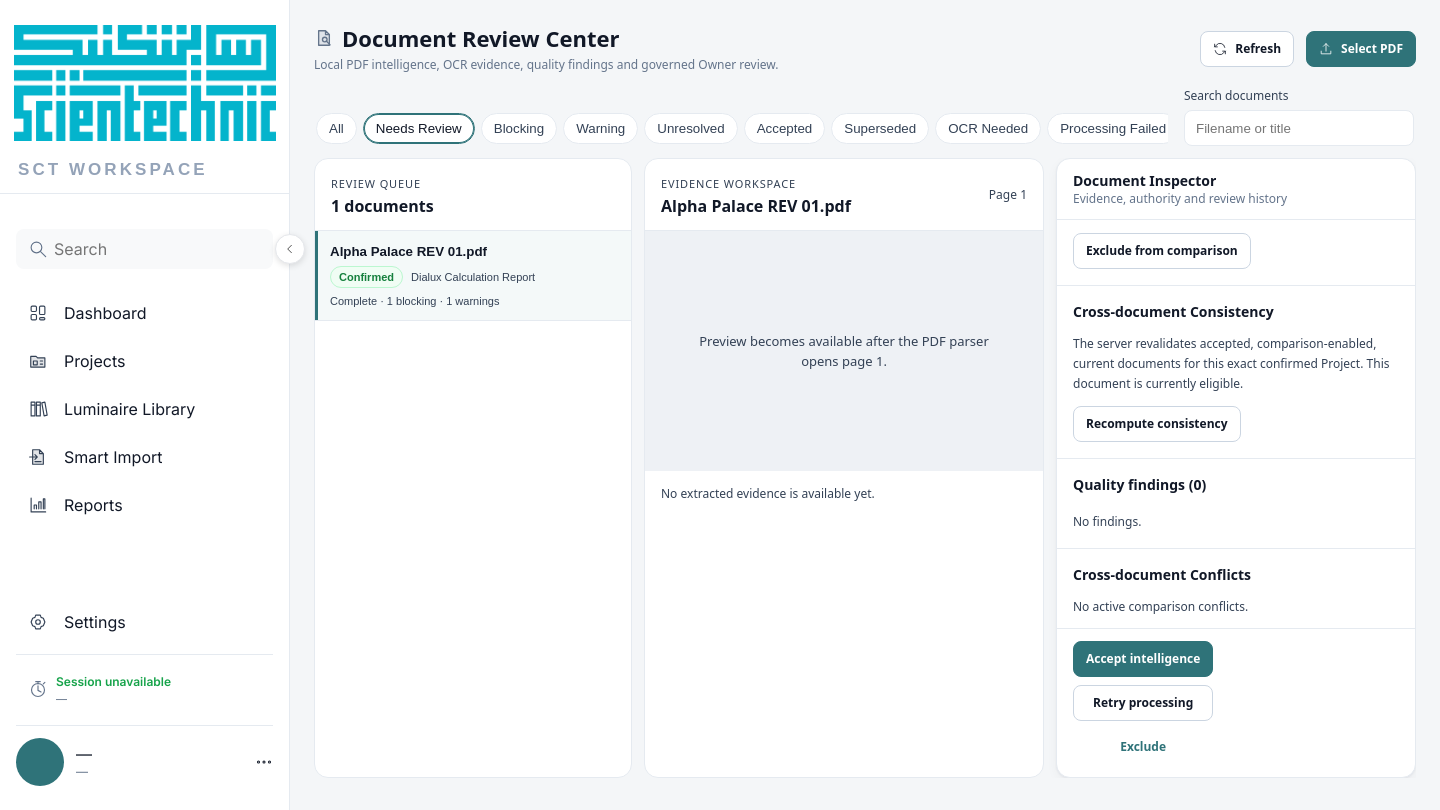
it: Document Review Center › recomputes through the Project authority, refreshes findings, and displays every source value with no winner
This screenshot has width=1440, height=810.
(page scrolled)
Click the button "Recompute consistency" at (1157, 424), box [1073,406,1240,442]
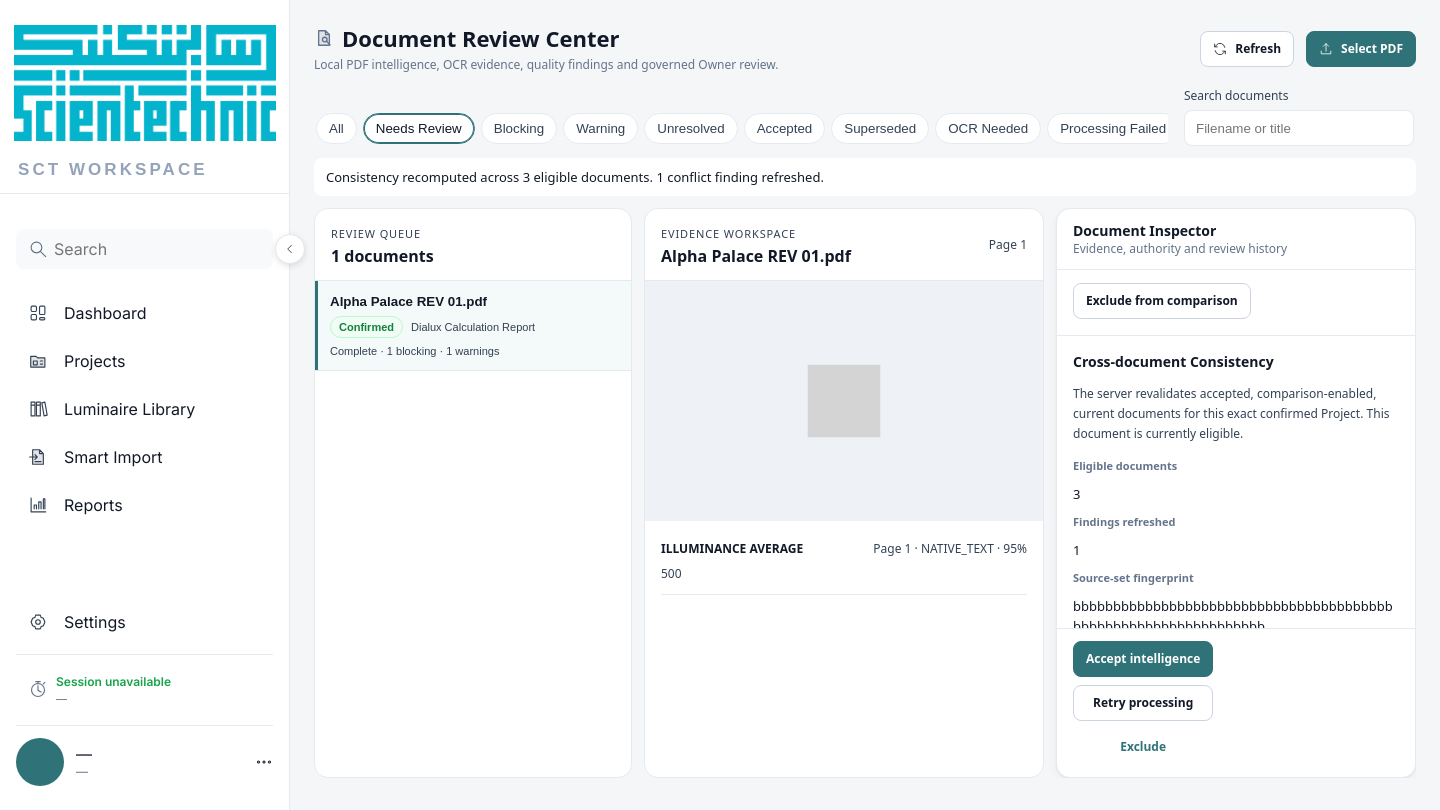
Now the text "3" is shown, box [1073,485,1080,503]
